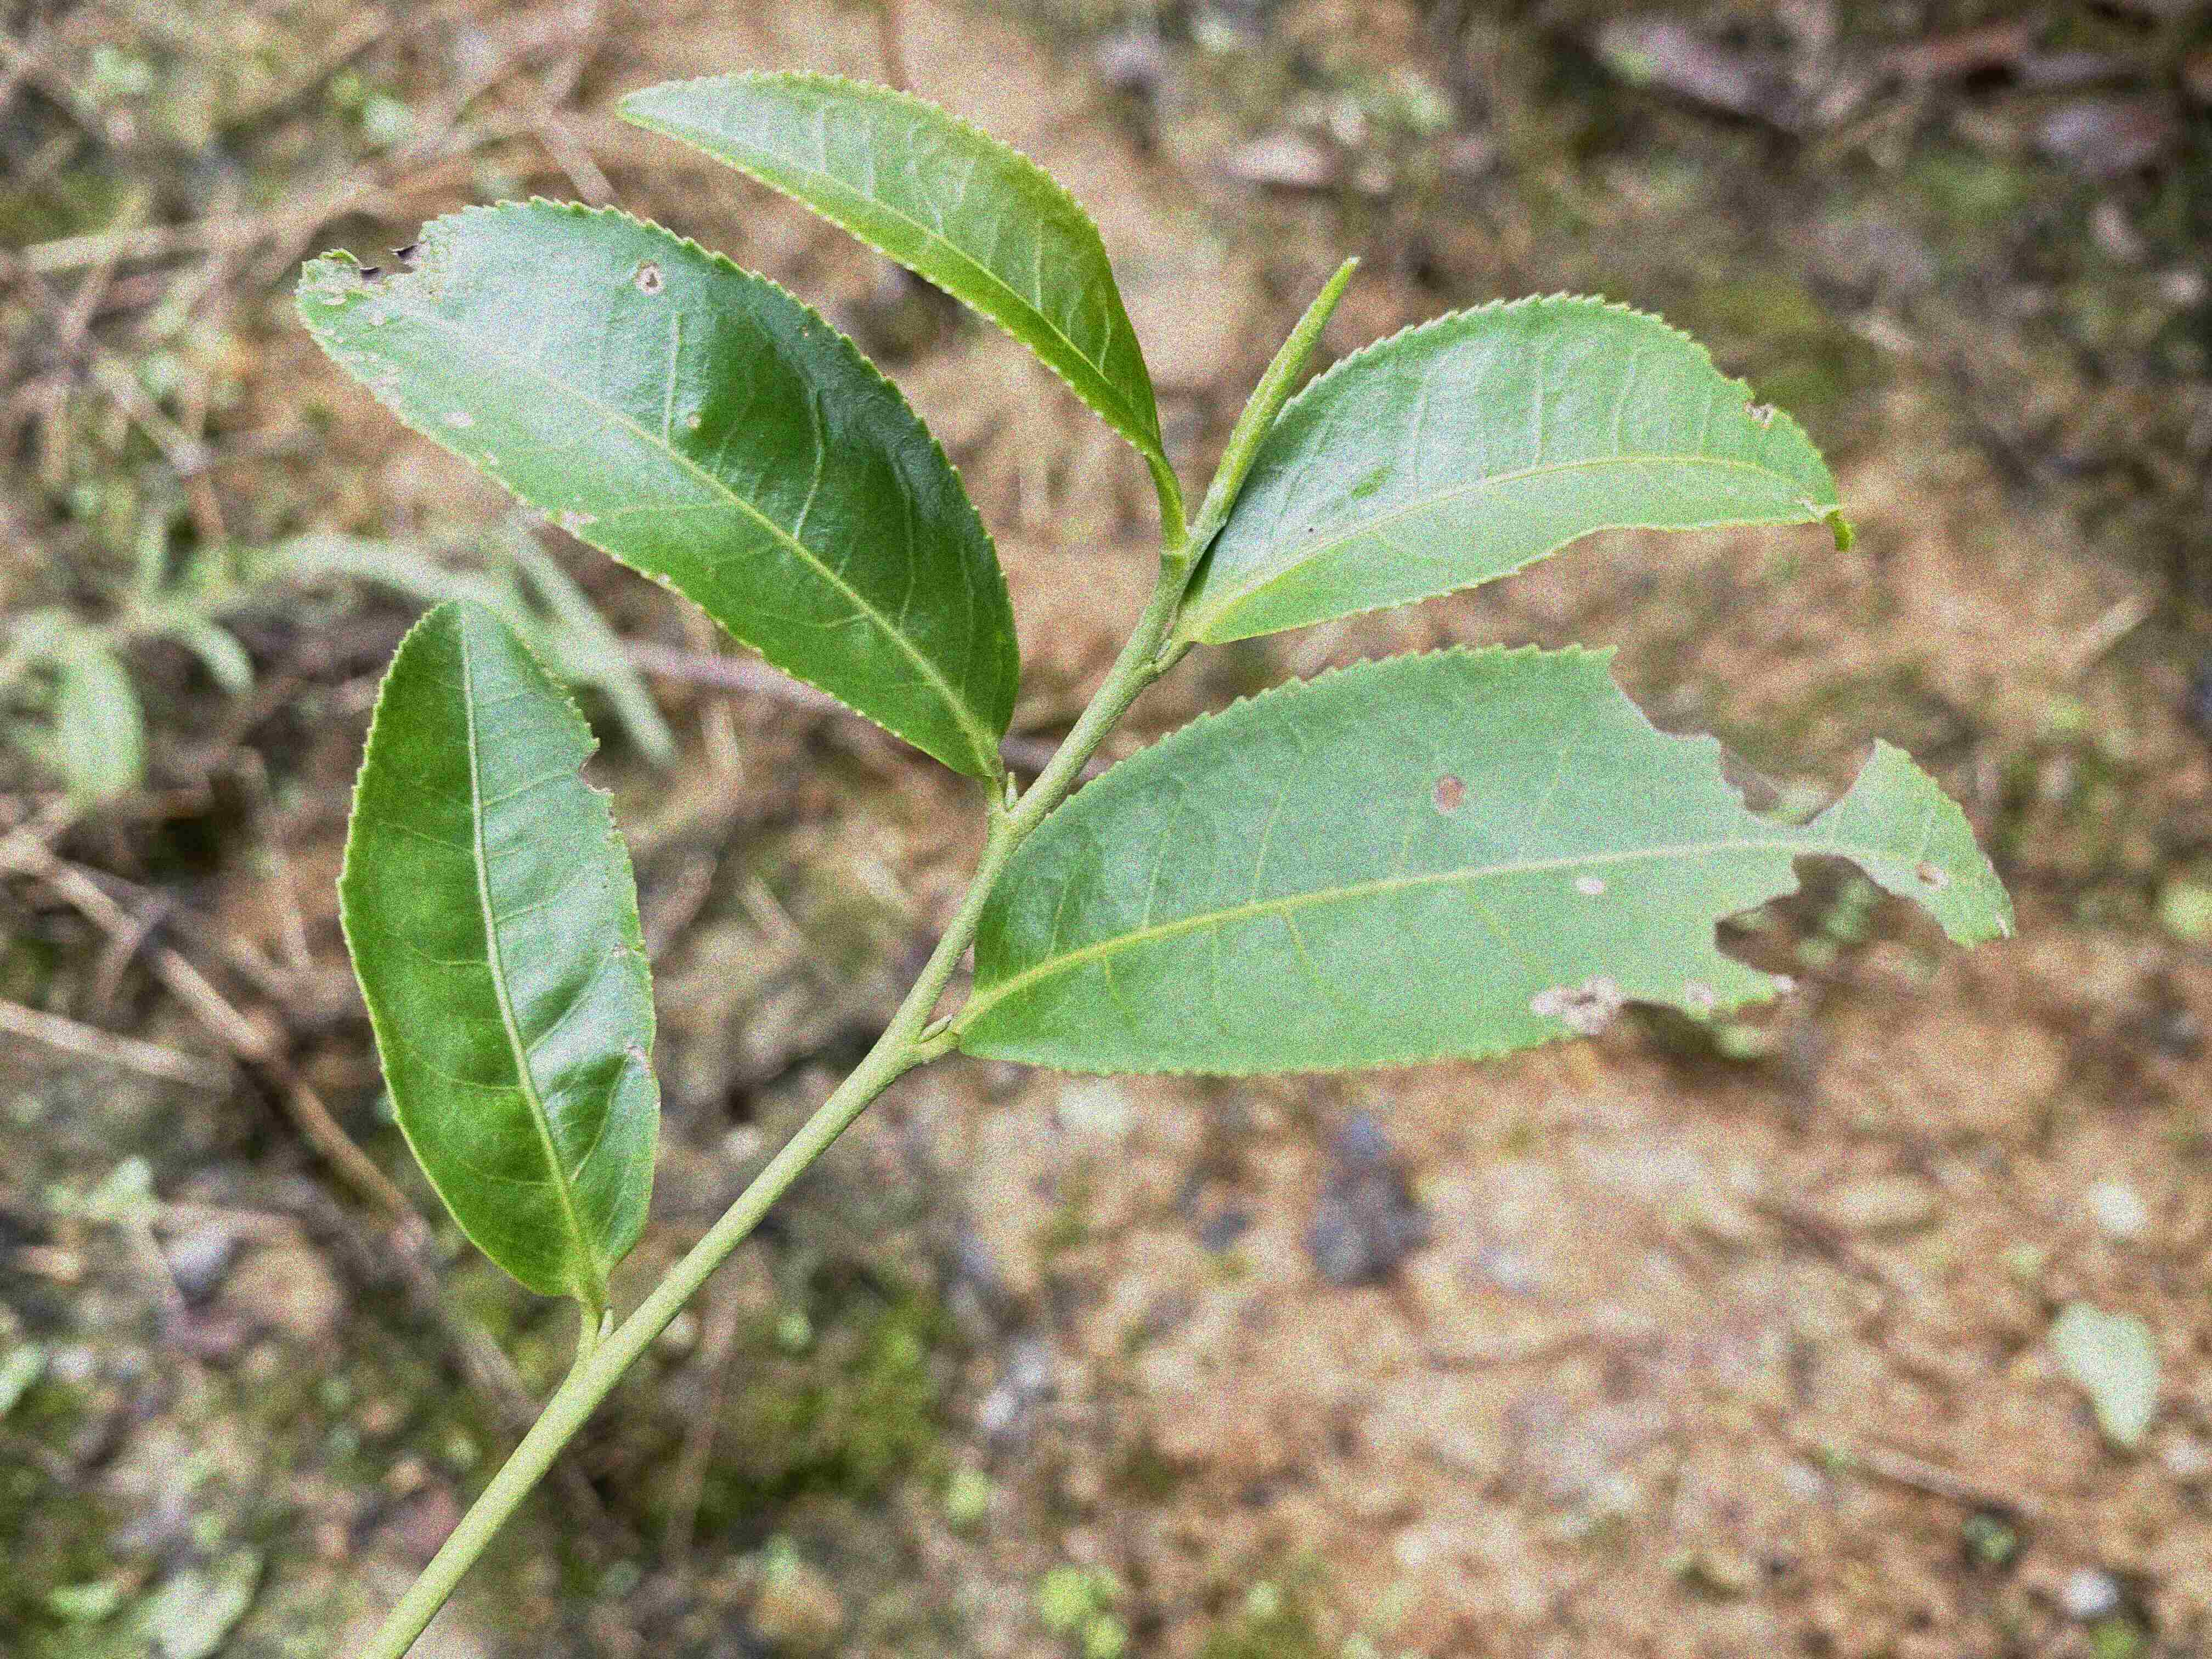chihuo_high: (960, 640, 2017, 1079)
chihuo_low: (289, 199, 1024, 775), (336, 598, 662, 1305)
healthy: (613, 64, 1186, 514)
tanju_low: (1183, 289, 1857, 650)
